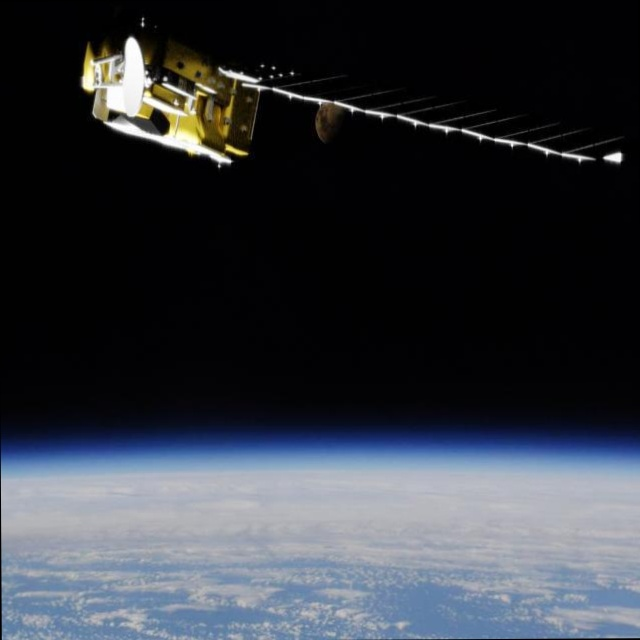satellite: (55, 0, 638, 171)
